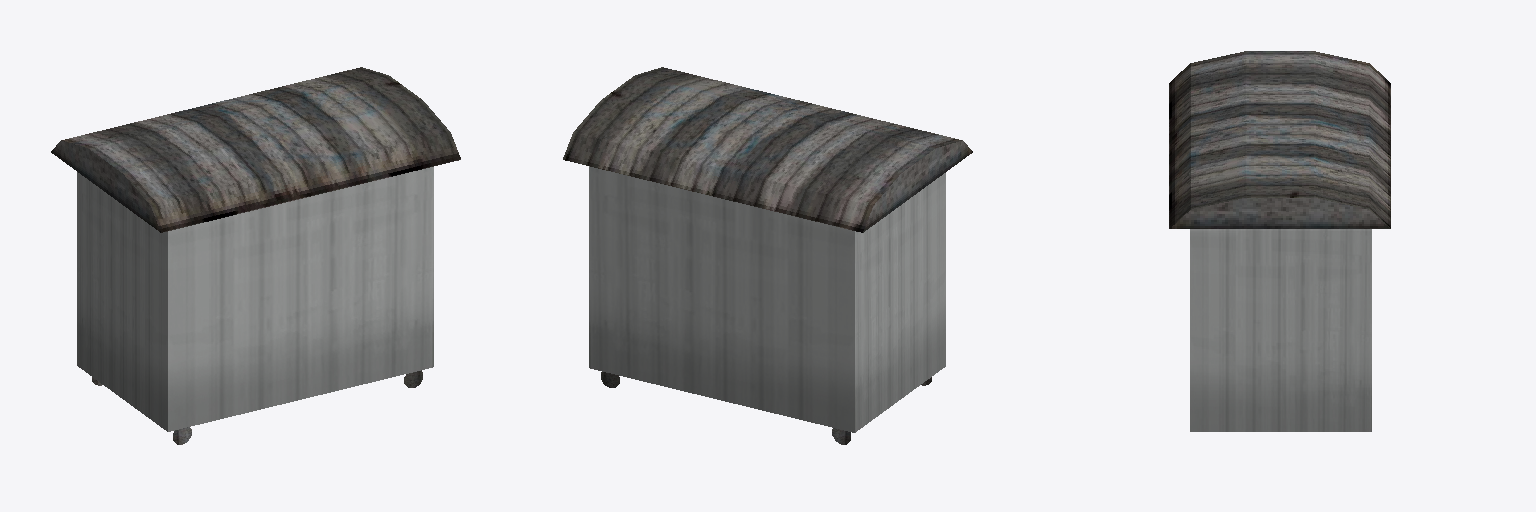
The picture shows the model from 3 angles: view 1: azimuth 30°, elevation 25°; view 2: azimuth 150°, elevation 25°; view 3: azimuth 270°, elevation 25°; orthographic projection.
Parts seen in each view (by area): view 1: dumpster_3_v1; view 2: dumpster_3_v1; view 3: dumpster_3_v1.
Part boxes in pixels (bbox=[...]): dumpster_3_v1: bbox=[51, 67, 460, 444]; dumpster_3_v1: bbox=[563, 67, 972, 444]; dumpster_3_v1: bbox=[1169, 51, 1390, 431].
Size of the model in its own units: 1.52 by 1.27 by 0.9676.
1 materials, 1 textured.